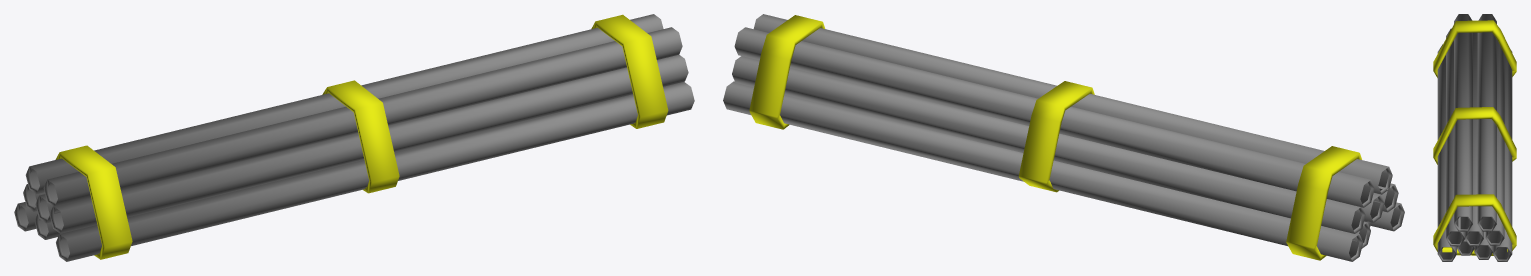
File: pipes.fbx
3 views of the same model, side by side, from view 1: azimuth 30°, elevation 25°; view 2: azimuth 150°, elevation 25°; view 3: azimuth 270°, elevation 25° (orthographic). The views are drawn at different scales.
Parts seen in each view (by area): view 1: Pipes; view 2: Pipes; view 3: Pipes.
Part boxes in pixels (box(x1,y1,x2,y2)): Pipes: box(14, 14, 694, 261); Pipes: box(723, 14, 1404, 261); Pipes: box(1433, 14, 1516, 261).
Bounding box in the file's own units: 2.3 × 0.2828 × 0.4.
